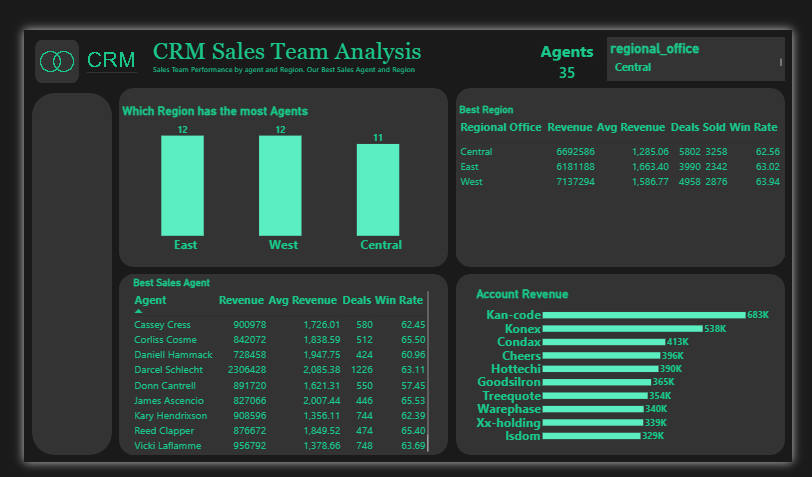

This screenshot's page, from the dashboard's own definition file:
{"tool":"powerbi","page":{"name":"CRM Sales Team Analysis","canvas":[3840,2160],"ordinal":4},"visuals":[{"type":"shape","box":[40,315,400,1810],"z":0},{"type":"cardVisual","title":"Revenue","fields":{"Data":["crmsalesopportunities cremqsales_team.Total Agents"]},"box":[2515,50,400,205],"z":1000},{"type":"textbox","box":[645,35,1645,220],"z":2000},{"type":"shape","box":[475,1220,1645,905],"z":4000},{"type":"shape","box":[2160,1220,1645,905],"z":5000},{"type":"image","box":[45,0,555,315],"z":6000},{"type":"shape","box":[2160,290,1645,895],"z":7000},{"type":"shape","box":[475,290,1645,895],"z":8000},{"type":"columnChart","title":"Which Region has the most Agents","fields":{"Category":["crmsalesopportunities cremqsales_team.regional_office"],"Y":["crmsalesopportunities cremqsales_team.Total Agents"]},"box":[475,355,1645,780],"z":9000},{"type":"clusteredBarChart","title":"Account Revenue","fields":{"Category":["crmsalesopportunities crmeqaccount.account"],"Y":["crmsalesopportunities crmeqsales_pipeline.Total Revenue"]},"box":[2245,1270,1495,820],"z":10000},{"type":"tableEx","title":"Best Sales Agent","fields":{"Values":["crmsalesopportunities cremqsales_team.sales_agent","crmsalesopportunities crmeqsales_pipeline.Total Revenue","crmsalesopportunities crmeqsales_pipeline.Avg Revenue","crmsalesopportunities crmeqsales_pipeline.Total Deals","crmsalesopportunities crmeqsales_pipeline.Win Rate"]},"box":[530,1220,1510,905],"z":10001},{"type":"tableEx","title":"Best Region","fields":{"Values":["crmsalesopportunities cremqsales_team.regional_office","crmsalesopportunities crmeqsales_pipeline.Total Revenue","crmsalesopportunities crmeqsales_pipeline.Avg Revenue","crmsalesopportunities crmeqsales_pipeline.Total Deals","crmsalesopportunities crmeqsales_pipeline.Total Sold","crmsalesopportunities crmeqsales_pipeline.Win Rate"]},"box":[2160,355,1645,780],"z":10002},{"type":"listSlicer","fields":{"Values":["crmsalesopportunities cremqsales_team.regional_office"]},"box":[2915,35,890,220],"z":10003}]}

Visuals, with their boxes on the page's 3840x2160 design canvas (x1, y1, x2, y2). These are canvas units, not pixel positions in the 812x477 screenshot, which may show the page scaled, cropped or inside an application window:
shape: crop(40, 315, 440, 2125)
"Revenue" cardVisual: crop(2515, 50, 2915, 255)
textbox: crop(645, 35, 2290, 255)
shape: crop(475, 1220, 2120, 2125)
shape: crop(2160, 1220, 3805, 2125)
image: crop(45, 0, 600, 315)
shape: crop(2160, 290, 3805, 1185)
shape: crop(475, 290, 2120, 1185)
"Which Region has the most Agents" columnChart: crop(475, 355, 2120, 1135)
"Account Revenue" clusteredBarChart: crop(2245, 1270, 3740, 2090)
"Best Sales Agent" tableEx: crop(530, 1220, 2040, 2125)
"Best Region" tableEx: crop(2160, 355, 3805, 1135)
listSlicer - crmsalesopportunities cremqsales_team.regional_office: crop(2915, 35, 3805, 255)
